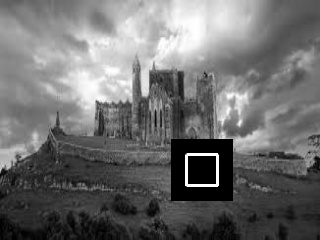square: (171, 139, 233, 201)
